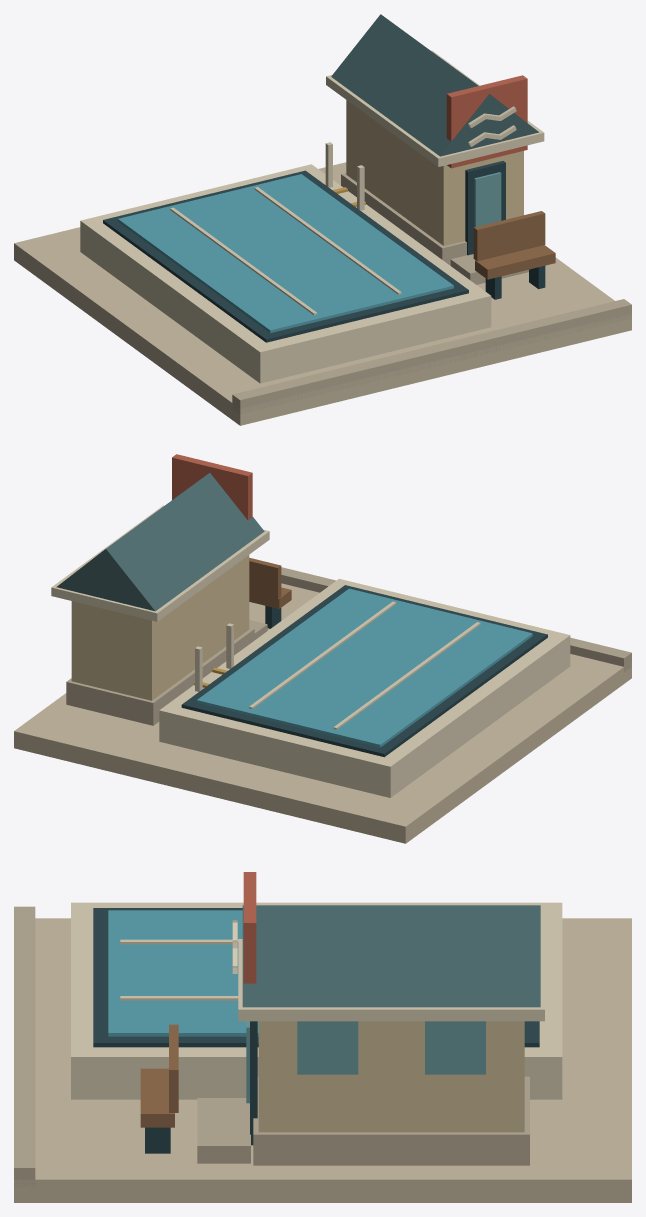
File: swimming-pool-complete.glb
3 views of the same model, one above another, from view 1: azimuth 30°, elevation 25°; view 2: azimuth 150°, elevation 25°; view 3: azimuth 270°, elevation 25° (orthographic). The views are drawn at different scales.
Visible parts, largest first — view 1: swimming-pool; view 2: swimming-pool; view 3: swimming-pool.
Part boxes in pixels (x1,y1,x2,y2): swimming-pool: (14,14,631,425); swimming-pool: (14,454,631,843); swimming-pool: (14,872,631,1202).
Bounding box in the file's own units: 2.88 × 1.37 × 2.88.
